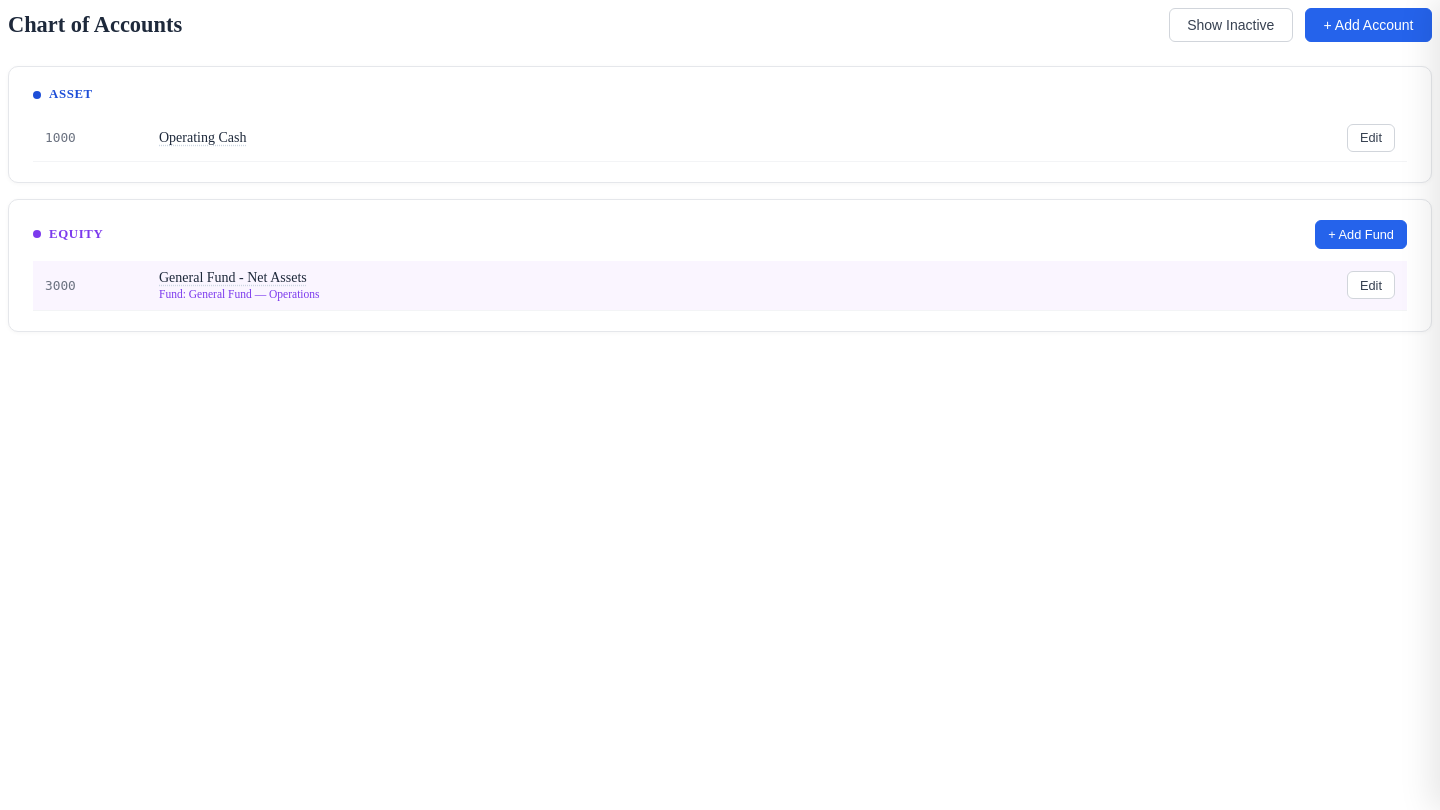
Test: ChartOfAccounts drawer › keeps the Balance column and empty-state colSpan in account mode
This screenshot has width=1440, height=810.
Step 1. Click the text "Operating Cash" → coordinates (203, 137), box [159, 130, 246, 145]
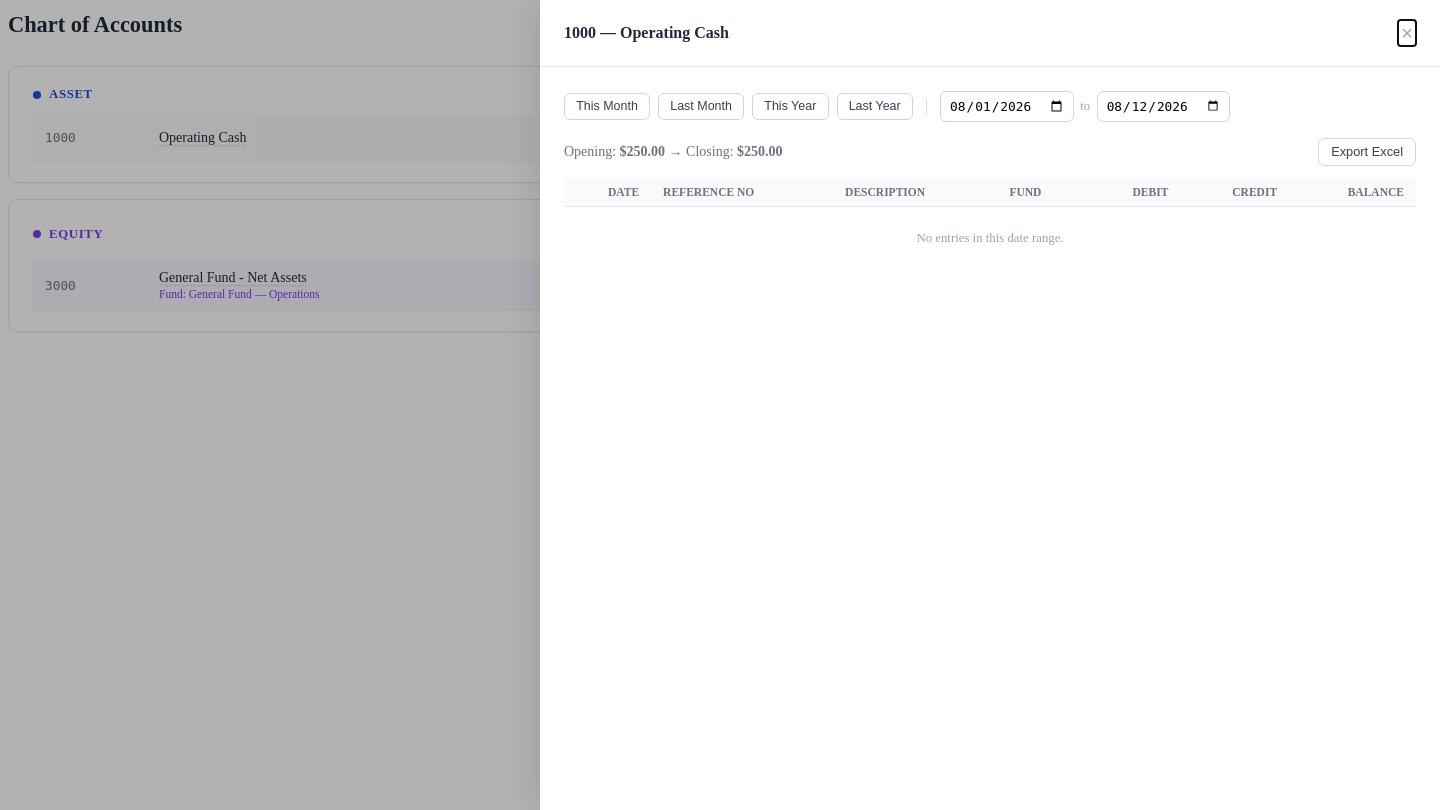
Expected: the button "Export Excel" is shown, [1318, 138, 1416, 166]
